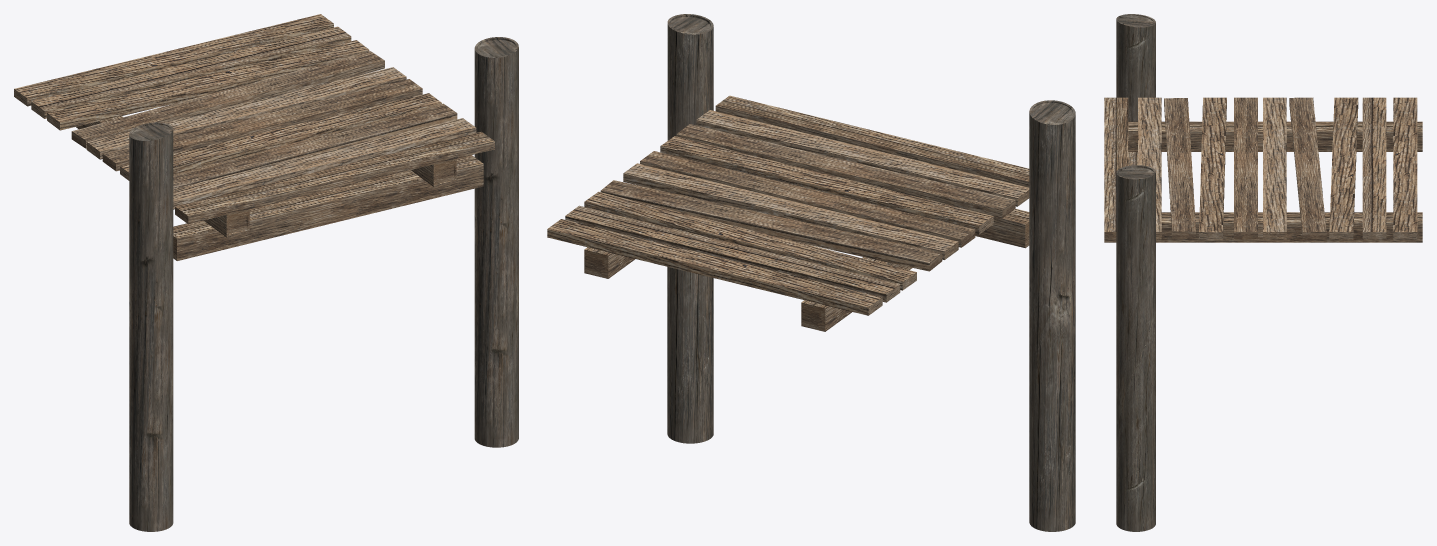
File: mama.fbx
3 renders of one model, left to right at view 1: azimuth 30°, elevation 25°; view 2: azimuth 150°, elevation 25°; view 3: azimuth 270°, elevation 25°, orthographic. The views are drawn at different scales.
Visible parts, largest first — view 1: columna.017; view 2: columna.017; view 3: columna.017.
Part boxes in pixels (x1,y1,x2,y2): columna.017: [14, 14, 518, 531]; columna.017: [547, 14, 1075, 531]; columna.017: [1104, 14, 1422, 531].
Size of the model in its own units: 501 by 490 by 400.
Materials: 2 (2 with a texture image).
